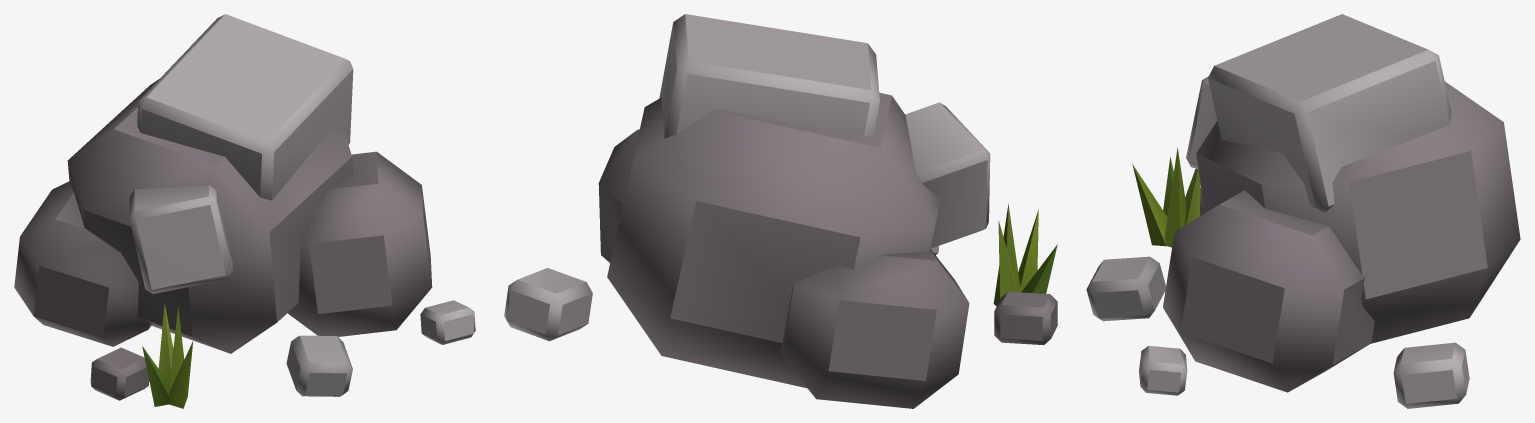
Rendered from n_rock_2.glb.
3 renders of one model, left to right at view 1: azimuth 30°, elevation 25°; view 2: azimuth 150°, elevation 25°; view 3: azimuth 270°, elevation 25°, orthographic. The views are drawn at different scales.
Visible parts, largest first — view 1: body; view 2: body; view 3: body.
Boxes of the visible parts, <box> form: body: <box>14,14,475,408</box>; body: <box>504,14,1057,408</box>; body: <box>1086,14,1520,408</box>.
Bounding box in the file's own units: 1.65 × 1.17 × 1.53.
